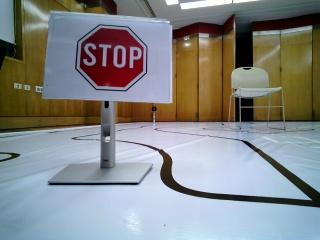stop: (52, 12, 177, 98)
